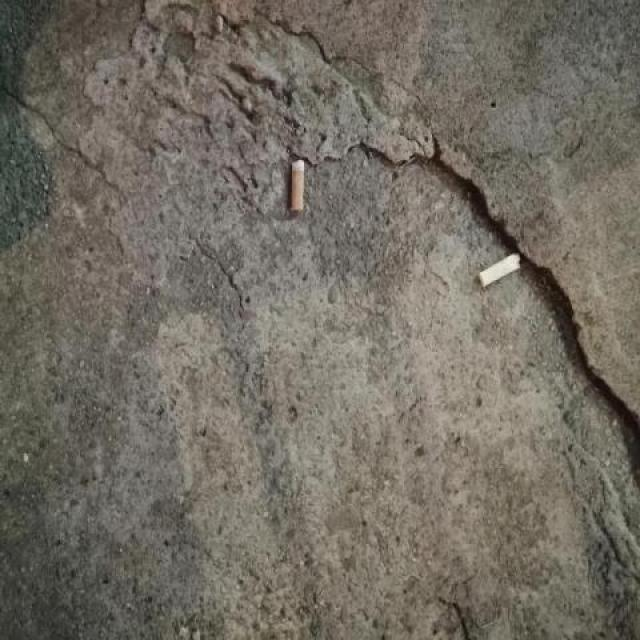non-organic waste: (476, 251, 524, 290), (285, 153, 307, 220)
